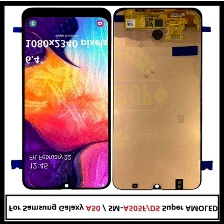phone: (108, 5, 206, 192), (20, 5, 112, 193)
